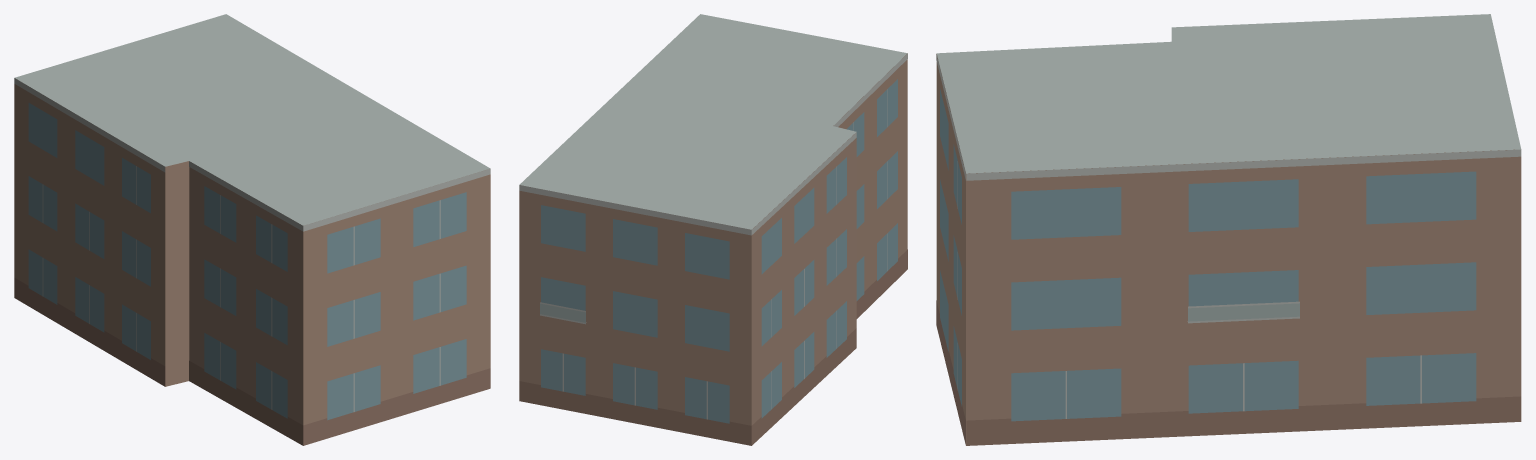
The model's file is survey-upis-32757469.glb.
3 views of the same model, side by side, from view 1: azimuth 30°, elevation 25°; view 2: azimuth 150°, elevation 25°; view 3: azimuth 270°, elevation 25° (orthographic). The views are drawn at different scales.
Visible parts, largest first — view 1: survey-upis-32757469.tmp; view 2: survey-upis-32757469.tmp; view 3: survey-upis-32757469.tmp.
Boxes of the visible parts, x1,y1,x2,y2 form: survey-upis-32757469.tmp: (14, 14, 490, 445); survey-upis-32757469.tmp: (519, 14, 907, 445); survey-upis-32757469.tmp: (936, 14, 1521, 445).
Size of the model in its own units: 11.51 by 9.15 by 17.82.
